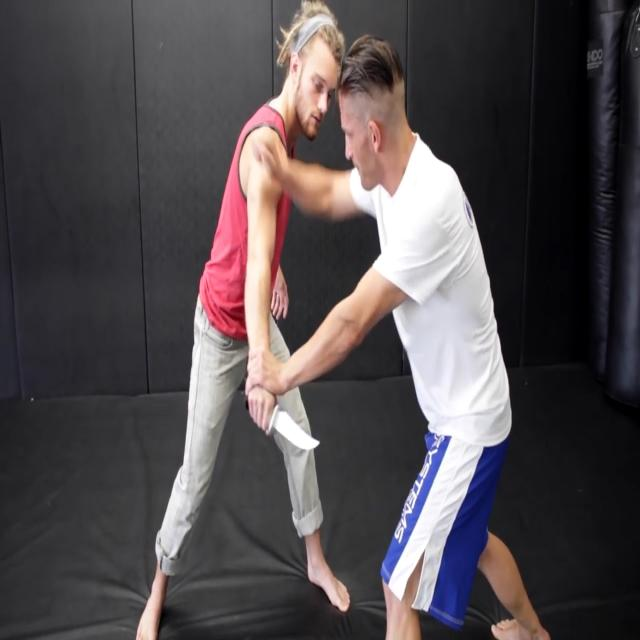knife: (270, 398, 326, 460)
